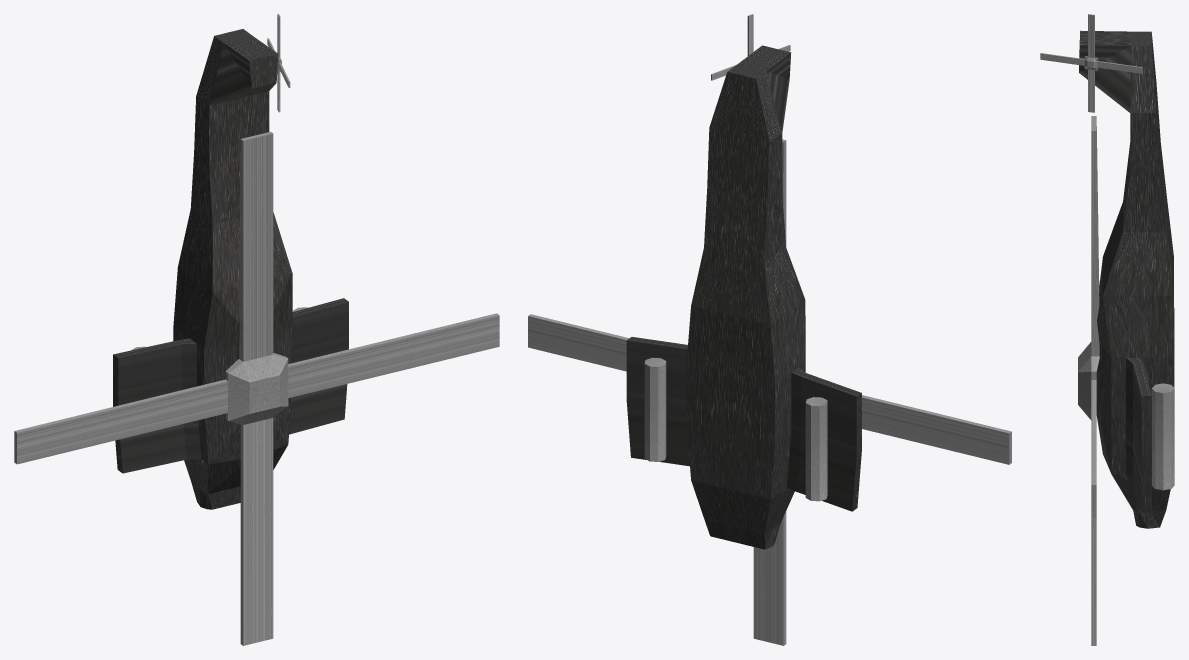
Rendered from helicopter.obj.
The picture shows the model from 3 angles, left to right: view 1: azimuth 30°, elevation 25°; view 2: azimuth 150°, elevation 25°; view 3: azimuth 270°, elevation 25°; orthographic projection. The views are drawn at different scales.
Parts seen in each view (by area): view 1: body, propeller_big; view 2: body, propeller_big, canon; view 3: body, propeller_big, canon, propeller_small.
Boxes of the visible parts, left/top/right/bottom form: body: left=113, top=29, right=348, bottom=509; propeller_big: left=14, top=131, right=499, bottom=645; body: left=626, top=45, right=861, bottom=549; propeller_big: left=528, top=139, right=1011, bottom=645; canon: left=644, top=357, right=827, bottom=501; body: left=1079, top=30, right=1173, bottom=528; propeller_big: left=1078, top=116, right=1099, bottom=645; canon: left=1151, top=307, right=1174, bottom=490; propeller_small: left=1040, top=14, right=1142, bottom=112.
Size of the model in its own units: 16 by 19.7 by 3.79.
